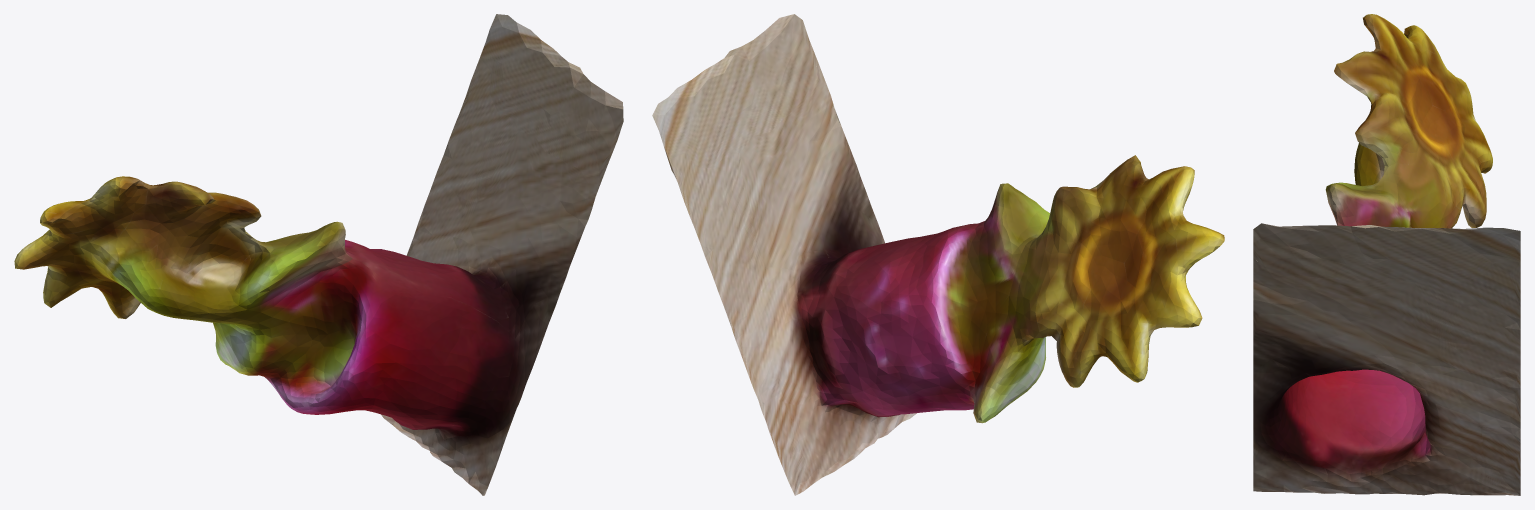
Rendered from Sunflower.obj.
The picture shows the model from 3 angles, left to right: view 1: azimuth 30°, elevation 25°; view 2: azimuth 150°, elevation 25°; view 3: azimuth 270°, elevation 25°; orthographic projection. The views are drawn at different scales.
Bounding box in the file's own units: 0.3845 × 0.247 × 0.1781.
1 material, 1 textured.
